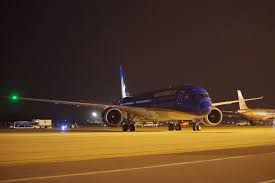maybay_dansu: (8, 68, 261, 136)
